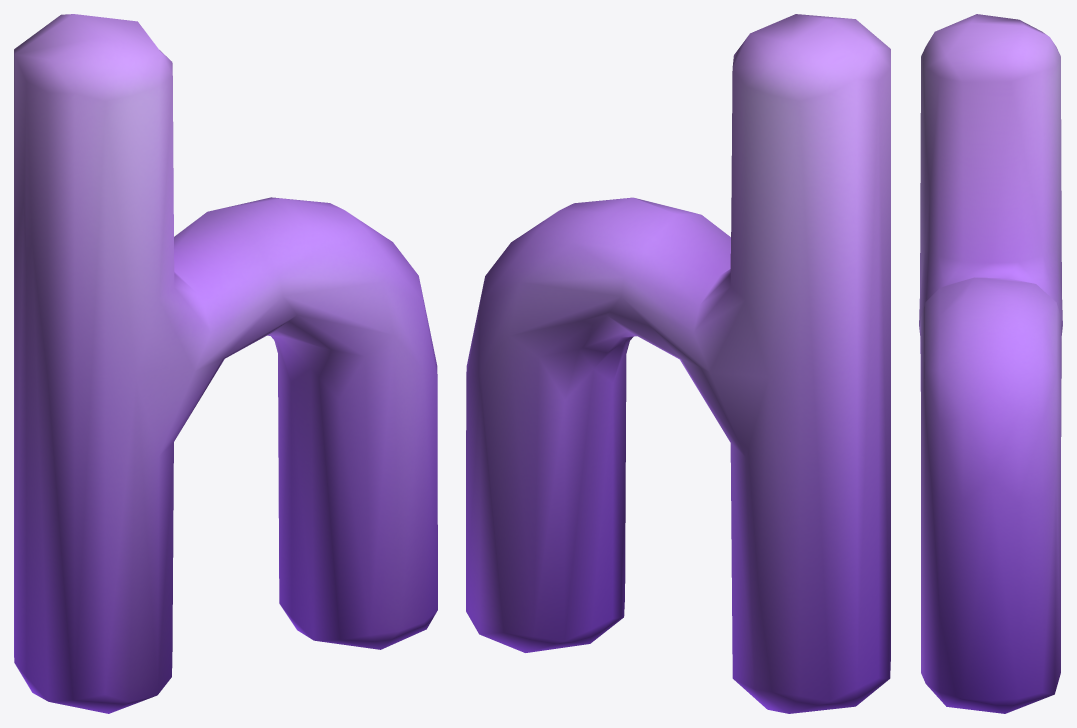
The picture shows the model from 3 angles, left to right: view 1: azimuth 30°, elevation 25°; view 2: azimuth 150°, elevation 25°; view 3: azimuth 270°, elevation 25°; orthographic projection. The views are drawn at different scales.
Visible parts, largest first — view 1: Processed_Mesh0_Geometry; view 2: Processed_Mesh0_Geometry; view 3: Processed_Mesh0_Geometry.
Boxes of the visible parts, <box> form: Processed_Mesh0_Geometry: <box>14,14,437,713</box>; Processed_Mesh0_Geometry: <box>466,14,890,713</box>; Processed_Mesh0_Geometry: <box>919,14,1062,713</box>.
Size of what is drawn, in the model's own units: 0.0524 by 0.0847 by 0.0194.
Materials: 1 (1 with a texture image).
